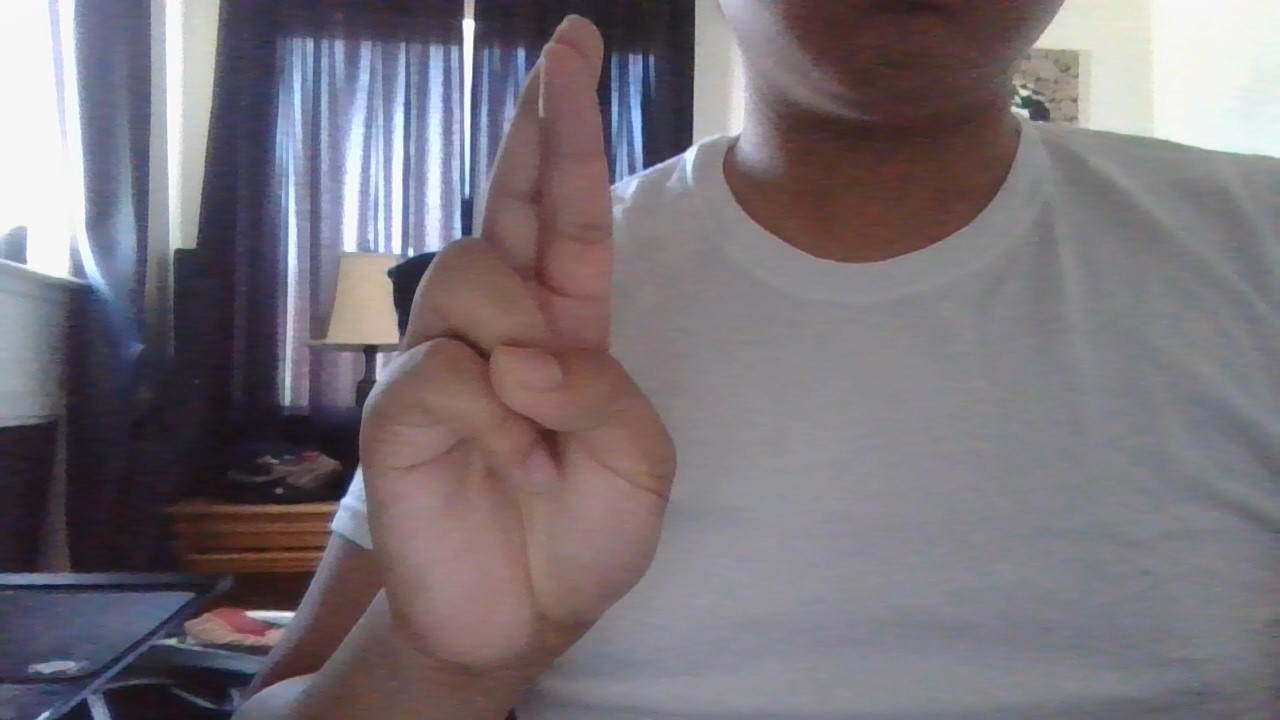r: (344, 10, 717, 702)
